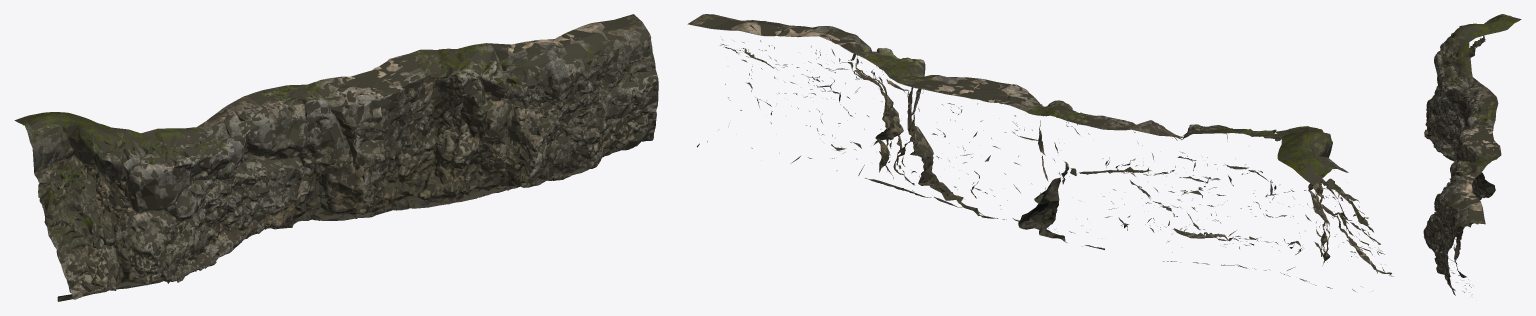
The model's file is coastal_cliff_02.glb.
3 views of the same model, side by side, from view 1: azimuth 30°, elevation 25°; view 2: azimuth 150°, elevation 25°; view 3: azimuth 270°, elevation 25° (orthographic). The views are drawn at different scales.
Parts seen in each view (by area): view 1: lod0, shadow; view 2: lod0, shadow; view 3: lod0, shadow.
Part boxes in pixels (x1,y1,x2,y2): lod0: (20,14,657,301); shadow: (14,15,658,301); lod0: (687,14,1393,288); shadow: (689,14,1391,291); lod0: (1423,14,1518,294); shadow: (1424,14,1521,295).
Size of what is drawn, in the model's own units: 40.93 by 10.05 by 8.65.
Materials: 1 (1 with a texture image).
